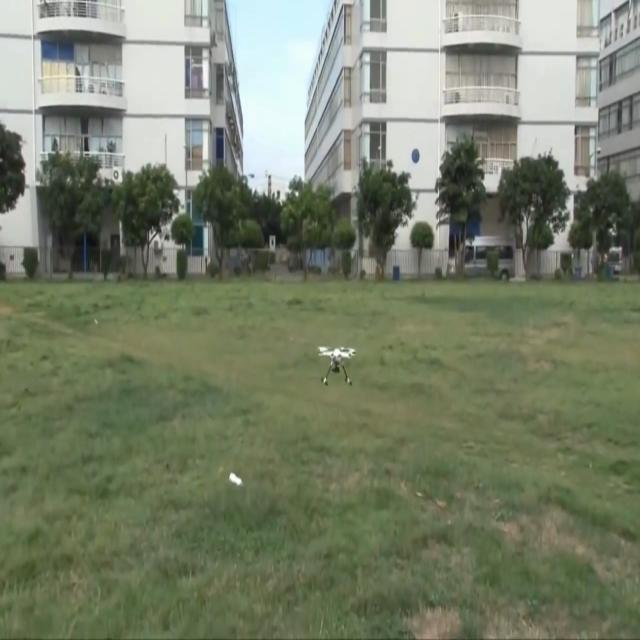drone: (317, 344, 356, 386)
